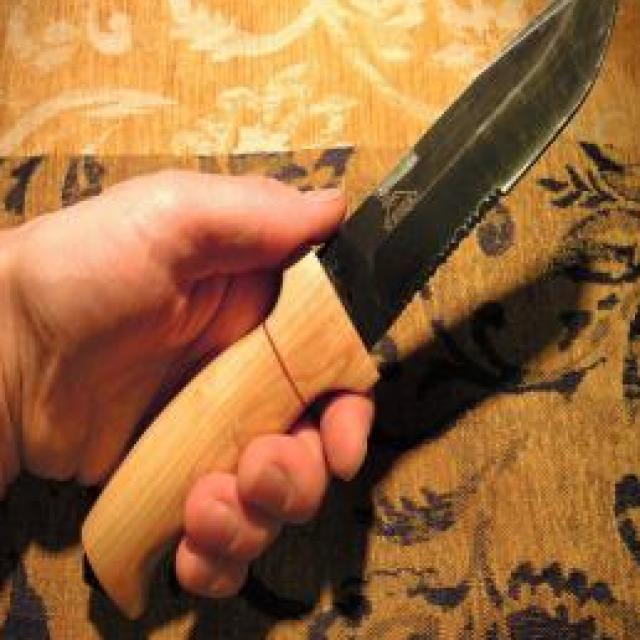knife: (72, 0, 632, 638)
